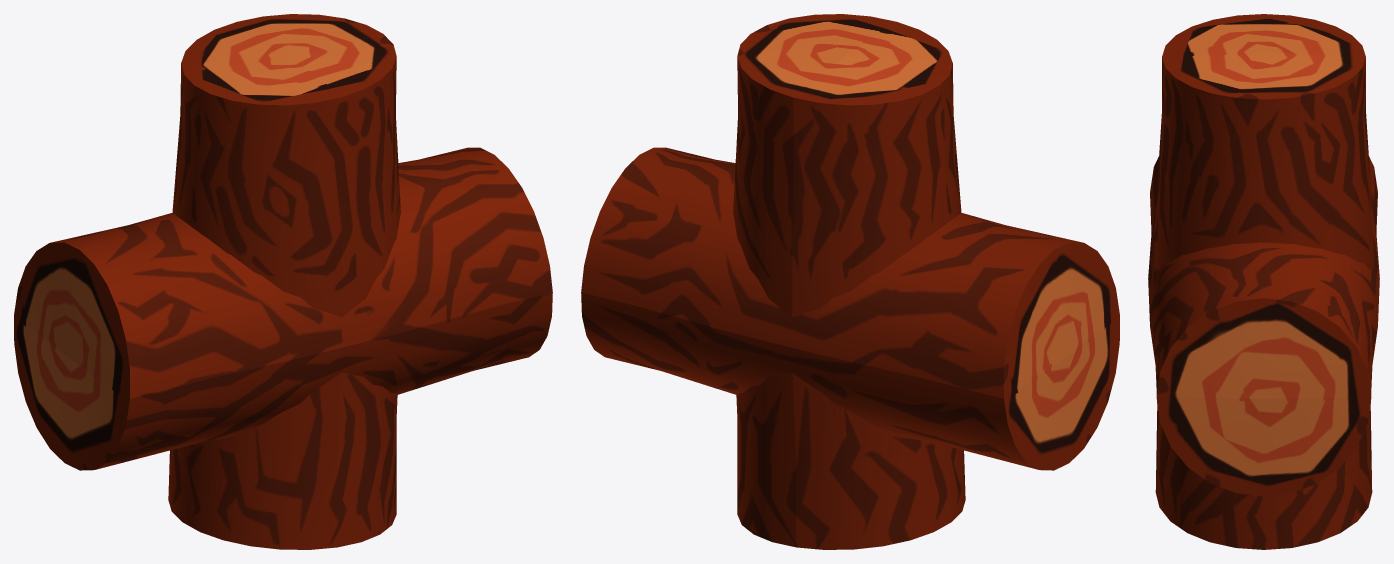
Rendered from Log2.fbx.
The picture shows the model from 3 angles, left to right: view 1: azimuth 30°, elevation 25°; view 2: azimuth 150°, elevation 25°; view 3: azimuth 270°, elevation 25°; orthographic projection.
Visible parts, largest first — view 1: Log2_B, Log2_A, Log2_D, Log2_C; view 2: Log2_B, Log2_A, Log2_D, Log2_C; view 3: Log2_A, Log2_C, Log2_B.
Boxes of the visible parts, left/top/right/bottom form: Log2_B: left=14, top=22, right=344, bottom=398; Log2_A: left=237, top=14, right=552, bottom=346; Log2_D: left=14, top=314, right=344, bottom=549; Log2_C: left=337, top=292, right=552, bottom=547; Log2_B: left=789, top=22, right=1119, bottom=398; Log2_A: left=581, top=14, right=896, bottom=346; Log2_D: left=789, top=314, right=1119, bottom=549; Log2_C: left=581, top=292, right=796, bottom=547; Log2_A: left=1148, top=52, right=1379, bottom=399; Log2_C: left=1155, top=367, right=1372, bottom=549; Log2_B: left=1148, top=14, right=1379, bottom=294.
Bounding box in the file's own units: 418 × 419 × 195.
Materials: 1 (1 with a texture image).
